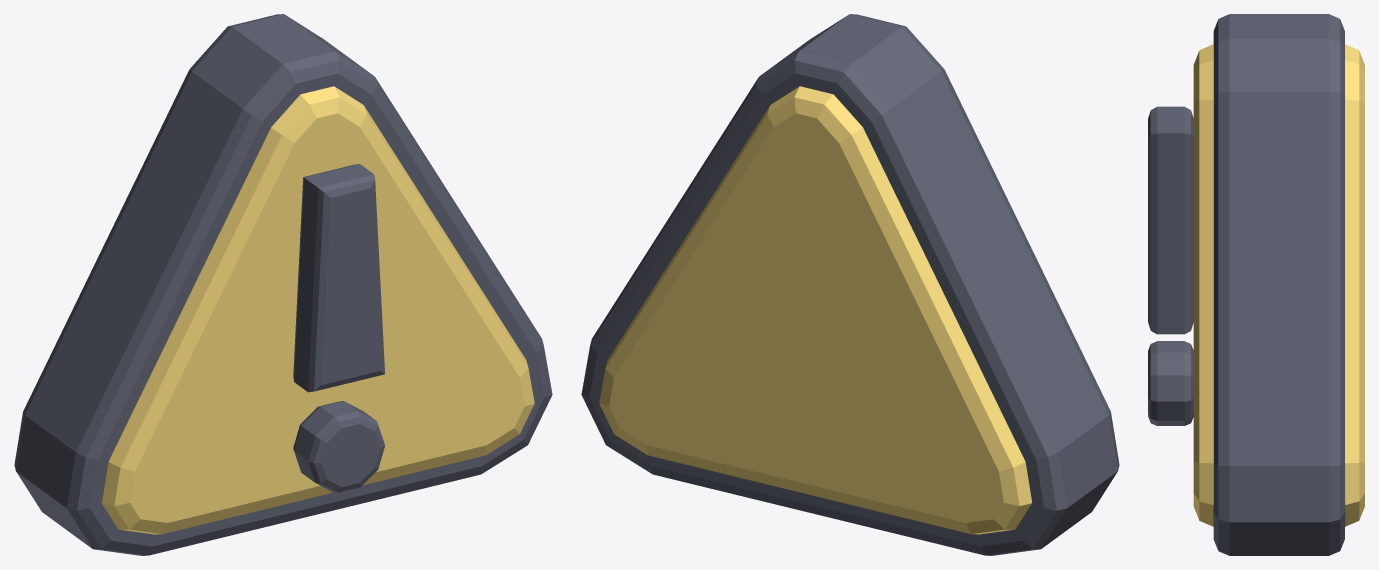
File: game-ui-icon-library-danger-triangle-75661042__19044.glb
3 views of the same model, side by side, from view 1: azimuth 30°, elevation 25°; view 2: azimuth 150°, elevation 25°; view 3: azimuth 270°, elevation 25° (orthographic). The views are drawn at different scales.
Visible parts, largest first — view 1: danger-triangle; view 2: danger-triangle; view 3: danger-triangle.
Boxes of the visible parts, x1=… form: danger-triangle: x1=14, y1=14, x2=552, y2=555; danger-triangle: x1=581, y1=14, x2=1119, y2=555; danger-triangle: x1=1148, y1=14, x2=1364, y2=555.
Size of the model in its own units: 0.98 by 0.8848 by 0.3905.
